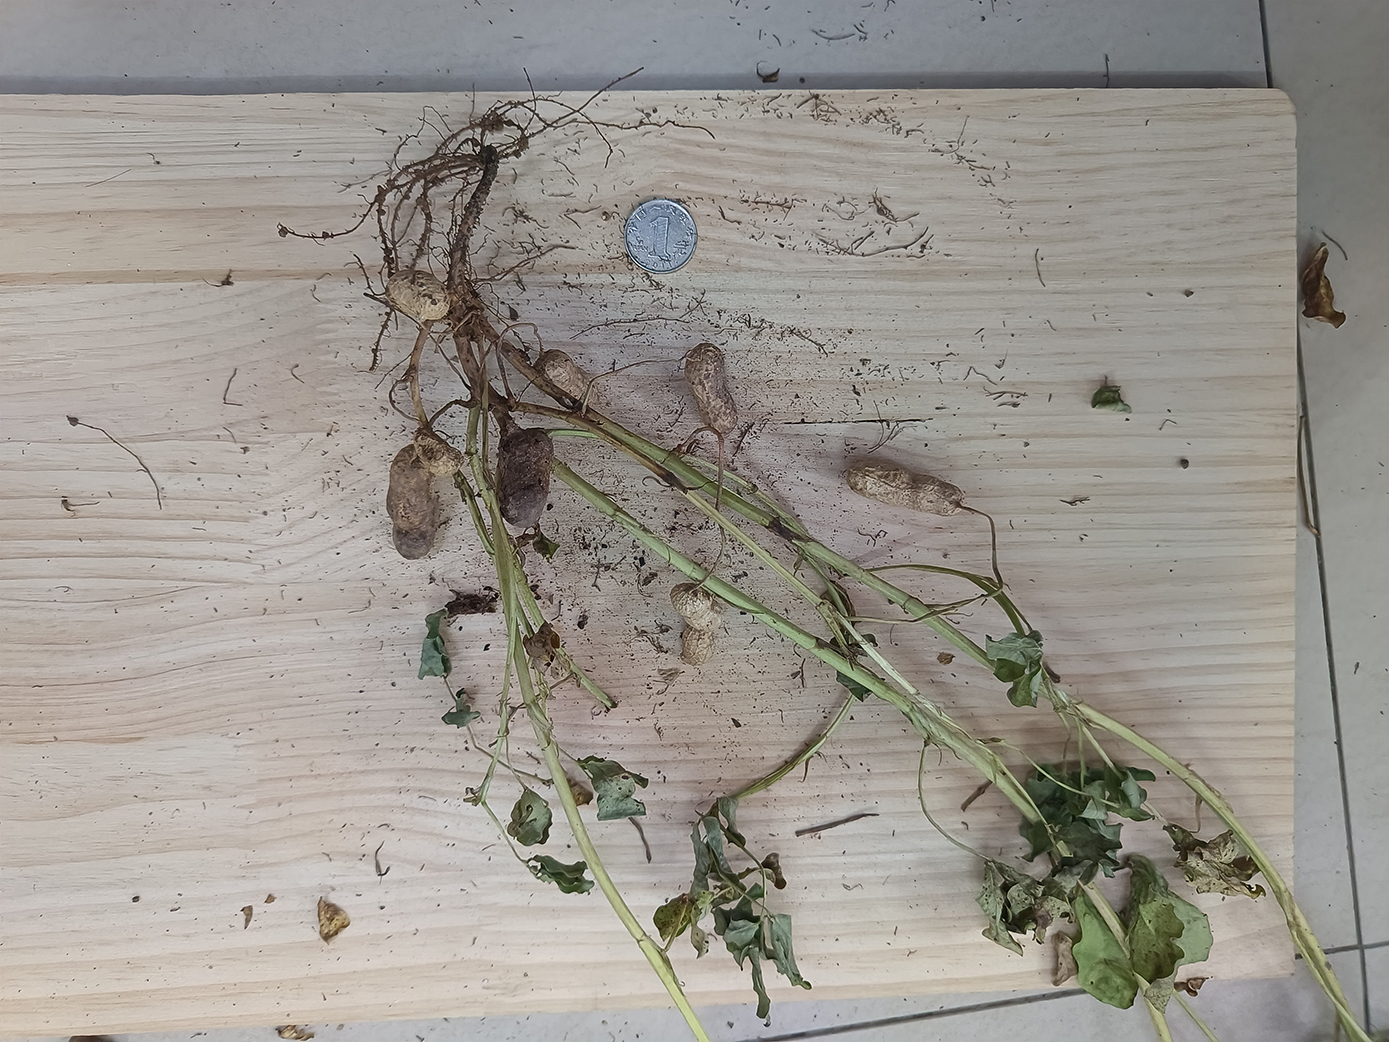h: (846, 462, 964, 517), (387, 445, 437, 560), (682, 341, 738, 435), (670, 584, 724, 665), (539, 349, 597, 408), (384, 270, 450, 320), (414, 429, 462, 475)
l: (494, 431, 554, 530)
